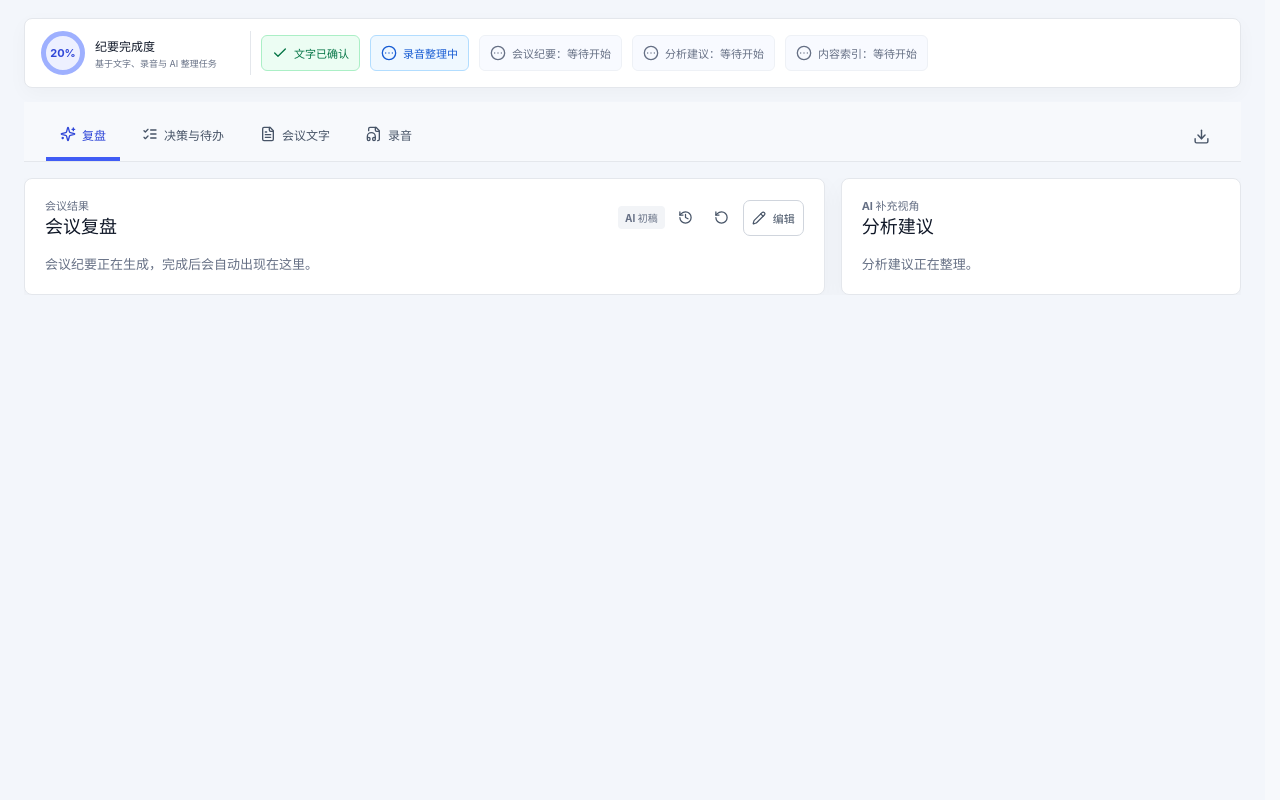
Scenario: ReviewWorkspace › renders semantic paragraphs while retaining every checkpoint evidence anchor
The width and height of the screenshot is (1280, 800).
What coordinates should you click on to do the following:
click the tab "决策与待办"
I would click on:
 (183, 135)
Its box is left=128, top=109, right=238, bottom=161.
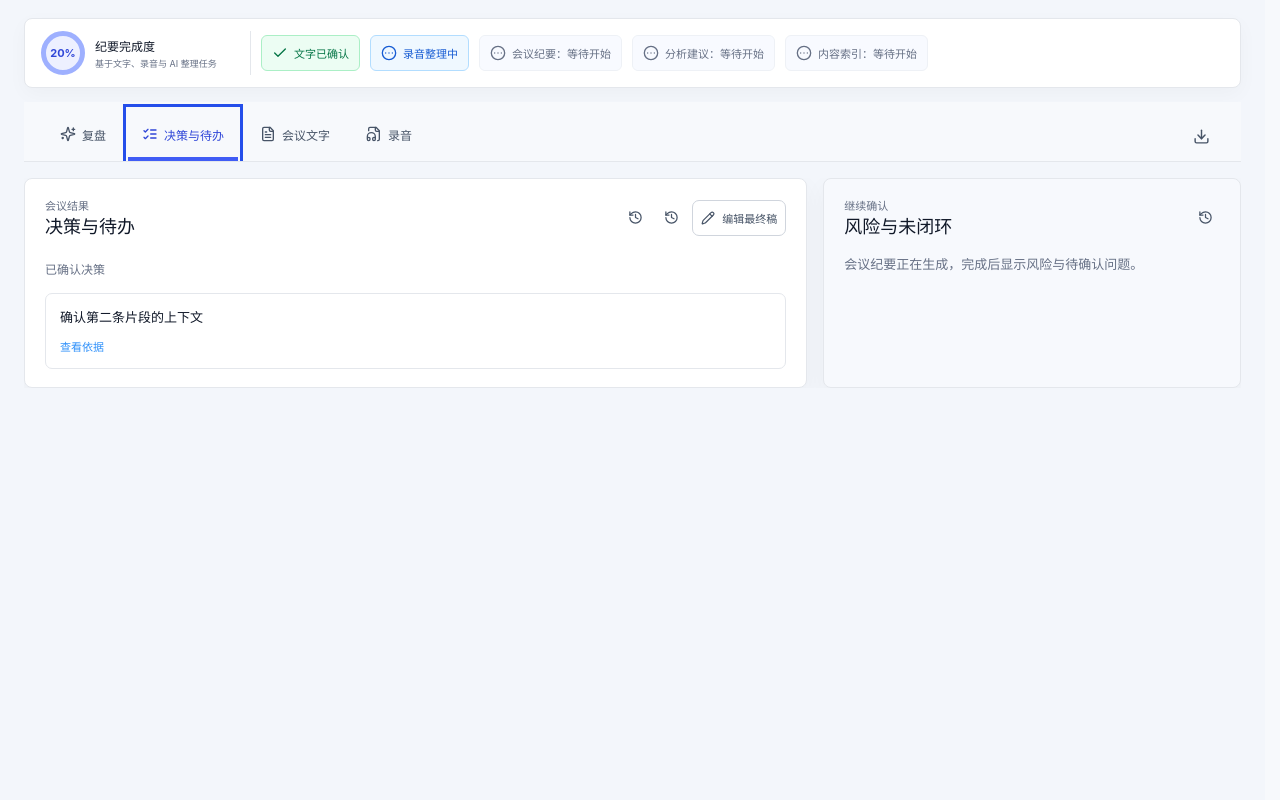
What coordinates should you click on to do the following:
click the button "查看依据"
I would click on:
 (82, 346)
Its box is left=60, top=338, right=104, bottom=354.
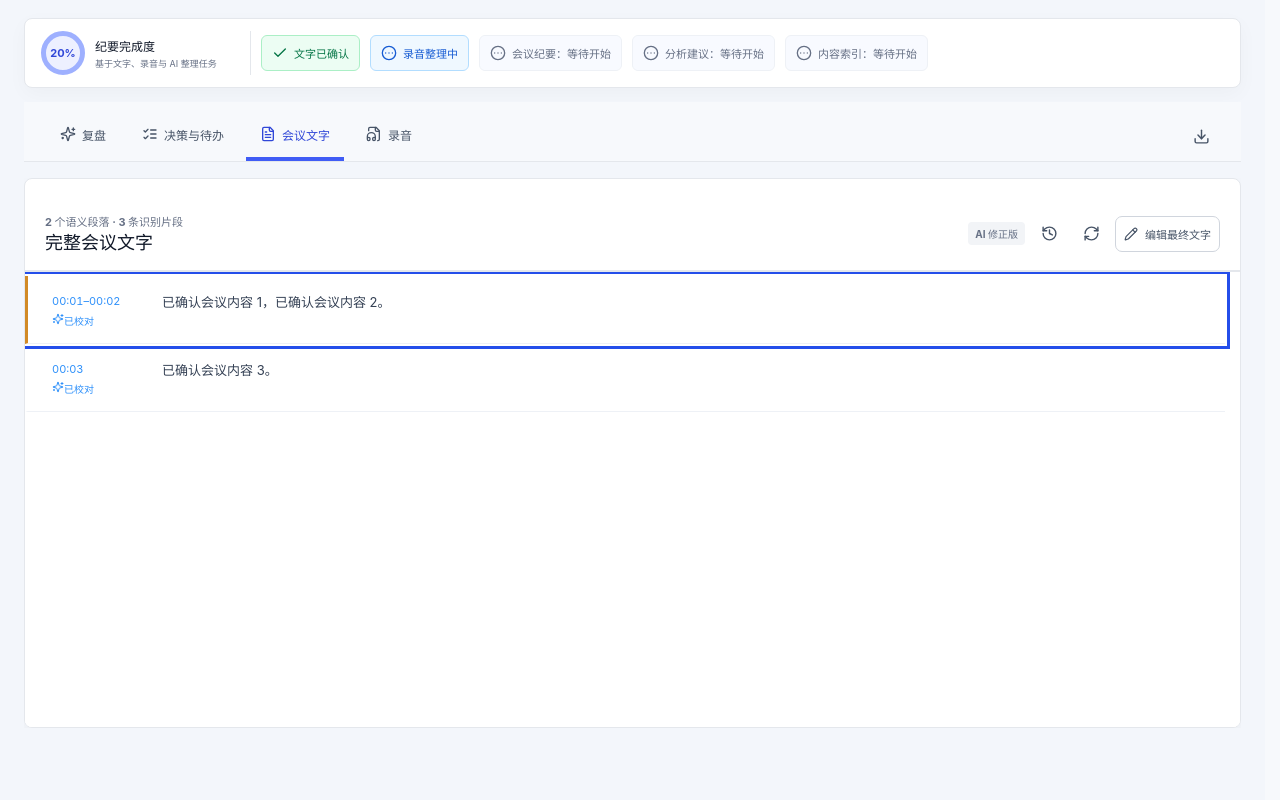
Expected: the text "2 个语义段落 · 3 条识别片段" is shown, left=45, top=213, right=183, bottom=229
Expected: the number of elements with class "transcript-segment" is 2, left=25, top=276, right=1225, bottom=344; left=25, top=344, right=1225, bottom=412
Expected: the text "已确认会议内容 1，已确认会议内容 2。" is shown, left=162, top=294, right=390, bottom=310
